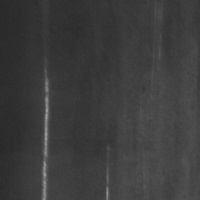scratches: (39, 67, 52, 199)
